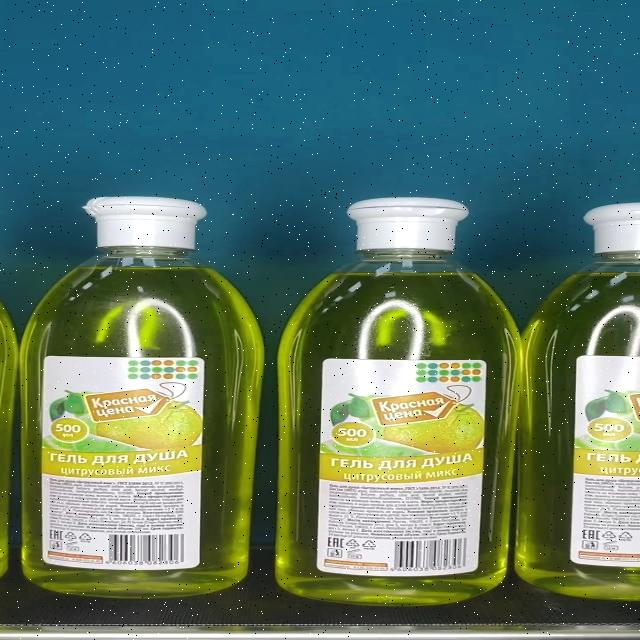Bottle: (274, 197, 524, 605), (19, 197, 264, 599)
Cap: (345, 198, 469, 251), (86, 198, 205, 248)
